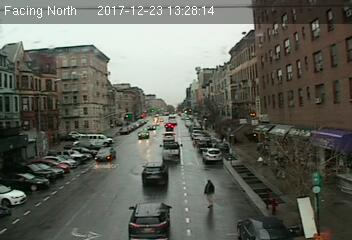car: (127, 203, 173, 240), (142, 160, 169, 186), (158, 141, 185, 161), (201, 146, 224, 163), (94, 147, 116, 162), (137, 129, 150, 139)
pedestrian: (204, 178, 217, 209)
